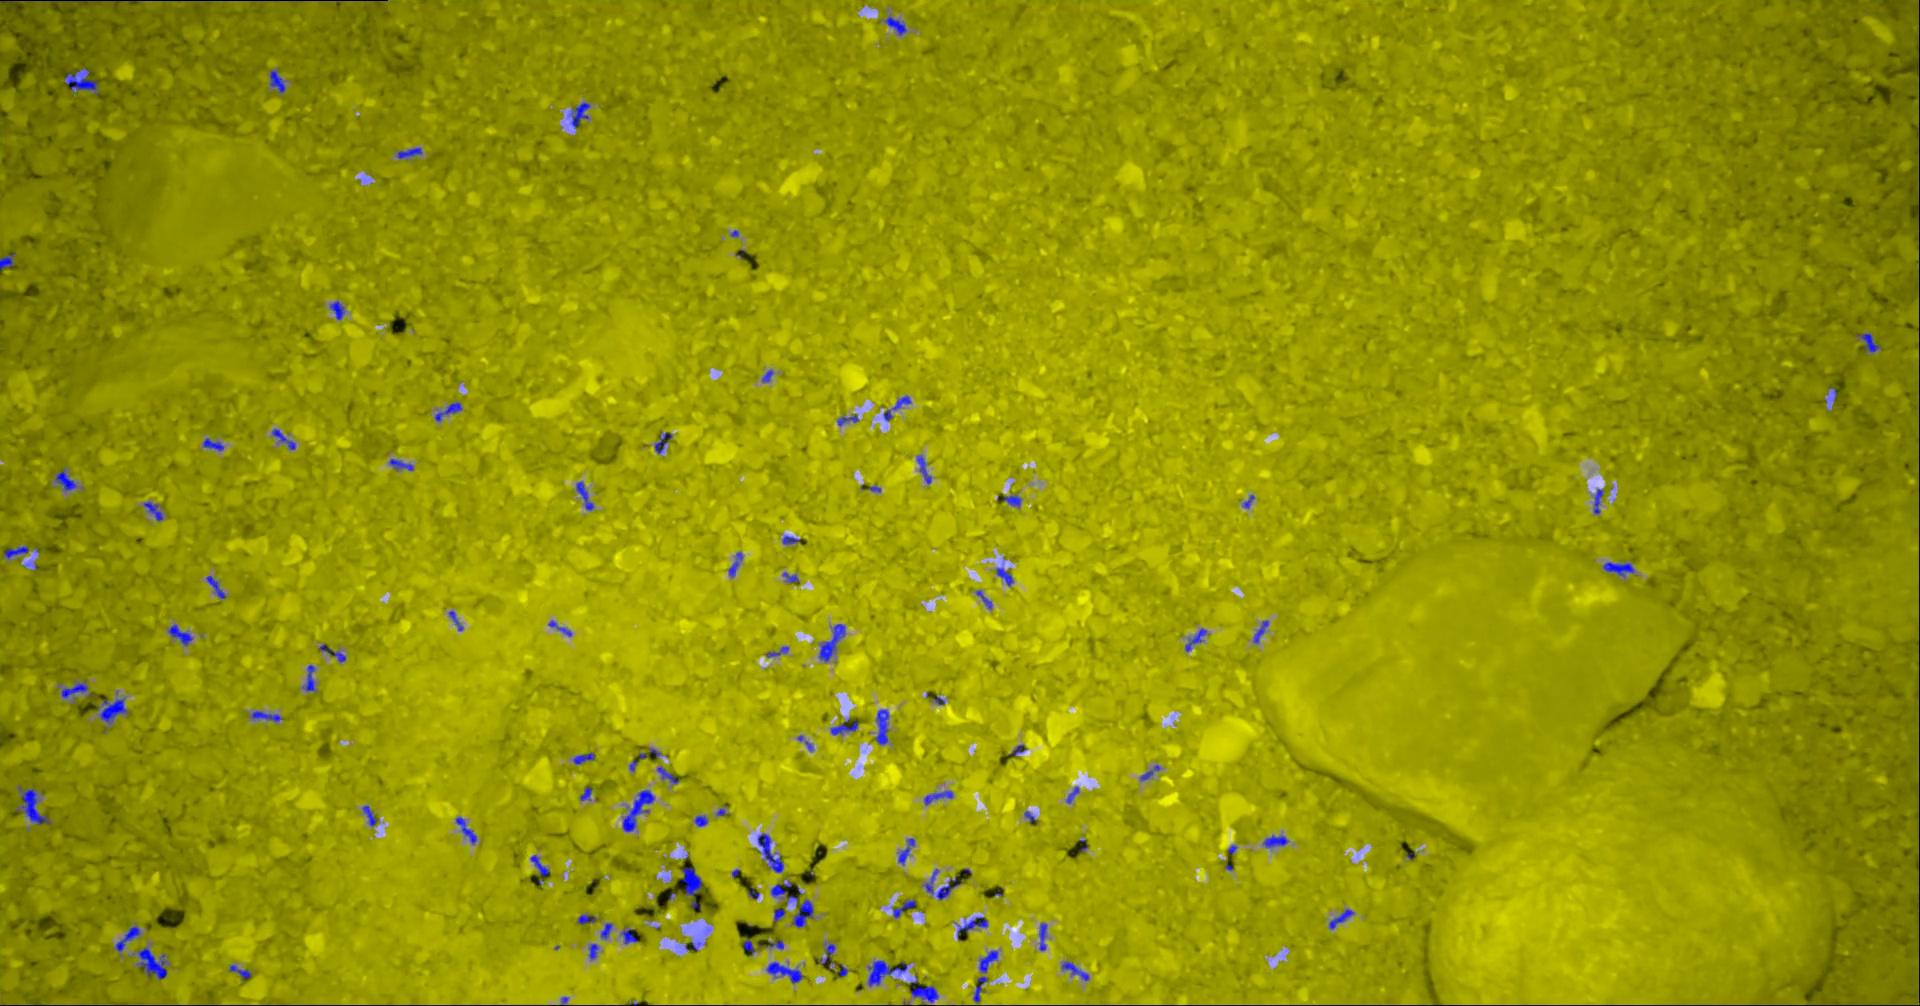ant: (623, 789, 657, 831), (17, 788, 51, 824), (975, 950, 999, 1002), (926, 868, 963, 899), (759, 833, 785, 873), (869, 960, 908, 986), (820, 622, 846, 661), (138, 946, 168, 979), (66, 67, 102, 93), (789, 894, 815, 927), (683, 866, 703, 909), (912, 976, 940, 1005), (768, 962, 804, 983), (959, 916, 989, 939), (117, 926, 142, 951), (102, 699, 128, 723), (532, 854, 551, 884), (457, 815, 477, 843), (577, 481, 596, 511), (436, 401, 463, 420), (56, 467, 79, 490), (170, 624, 194, 645), (1186, 627, 1208, 652), (1330, 908, 1355, 929), (571, 102, 590, 128), (818, 942, 837, 969), (1063, 962, 1090, 981), (273, 428, 297, 448), (886, 14, 908, 36), (832, 718, 860, 734), (877, 709, 890, 744), (1604, 561, 1636, 575), (320, 644, 347, 661), (62, 682, 89, 699), (899, 837, 916, 864), (208, 575, 227, 598), (1860, 333, 1882, 352), (924, 790, 954, 804), (894, 899, 917, 917), (549, 620, 573, 636), (918, 455, 932, 483), (270, 69, 287, 91), (251, 710, 284, 721), (658, 766, 681, 782), (145, 500, 164, 520), (657, 432, 673, 453), (1255, 620, 1270, 643), (997, 567, 1015, 586), (303, 664, 316, 691), (1263, 835, 1290, 847), (730, 551, 744, 575), (1142, 763, 1162, 780), (5, 545, 30, 558), (230, 964, 253, 978), (772, 880, 792, 895), (999, 494, 1023, 507), (364, 805, 378, 826), (391, 459, 415, 470), (838, 413, 860, 426), (397, 147, 424, 158), (1, 251, 17, 269), (331, 300, 345, 319), (1595, 488, 1605, 513), (894, 395, 912, 409), (574, 752, 596, 763), (204, 438, 225, 450), (622, 929, 639, 942), (768, 647, 790, 657), (1040, 922, 1048, 950), (602, 922, 615, 937), (1, 0, 141, 1), (744, 939, 756, 954), (579, 915, 598, 923), (582, 786, 593, 800), (775, 908, 786, 922), (590, 942, 599, 959), (696, 815, 709, 826)
